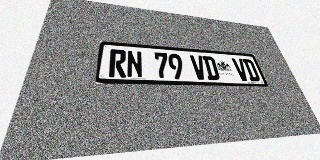7: (153, 52, 170, 79)
9: (167, 53, 185, 79)
D: (202, 56, 220, 80), (242, 59, 261, 81)
N: (127, 50, 143, 78)
R: (109, 49, 126, 78)
V: (190, 55, 208, 80), (231, 58, 250, 81)
